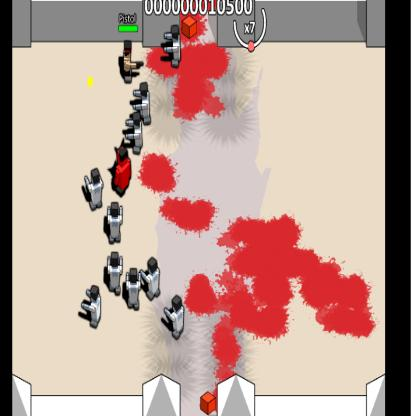agent: (122, 39, 135, 84)
ball: (87, 76, 94, 88)
boss: (115, 146, 130, 196)
jombie: (168, 293, 186, 339), (144, 256, 161, 303), (87, 168, 104, 212), (126, 266, 142, 312), (107, 202, 124, 244), (87, 284, 103, 328), (107, 250, 122, 296), (168, 24, 182, 70), (137, 81, 151, 126), (129, 112, 143, 154)
